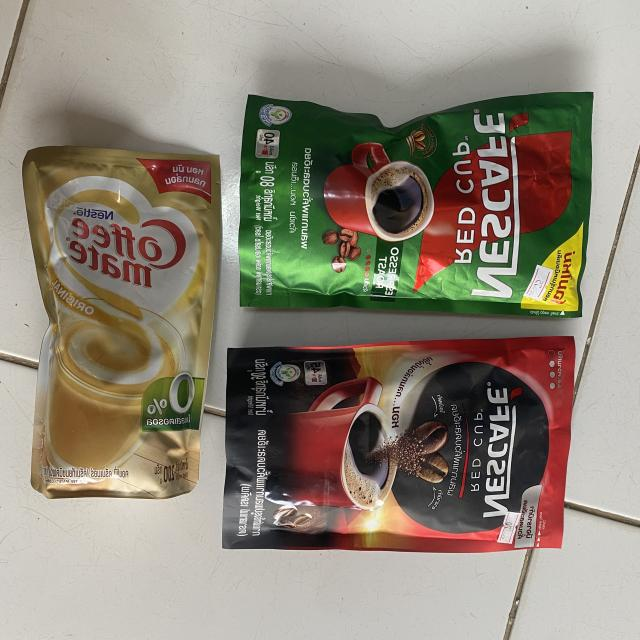plastik: (239, 92, 594, 318), (222, 337, 575, 552), (23, 146, 221, 499)
